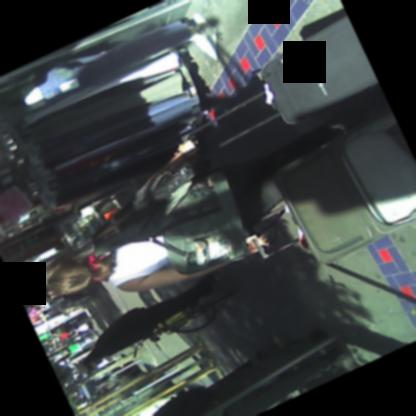backpack: (94, 171, 254, 274)
handbag: (92, 148, 208, 245), (92, 174, 193, 259)
suitcase: (245, 104, 416, 268), (260, 14, 379, 124)
